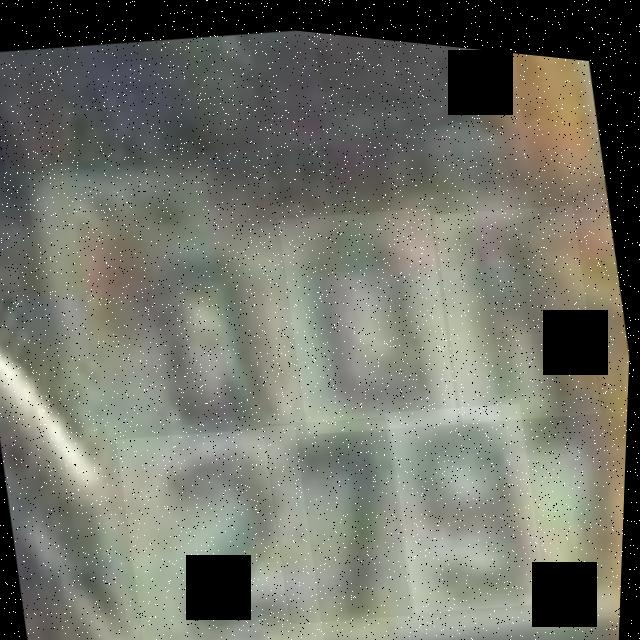2: (113, 405, 334, 640)
7: (259, 397, 426, 629), (502, 383, 630, 604)
9: (381, 380, 557, 615)
D: (273, 186, 467, 440)
N: (429, 180, 609, 424)
